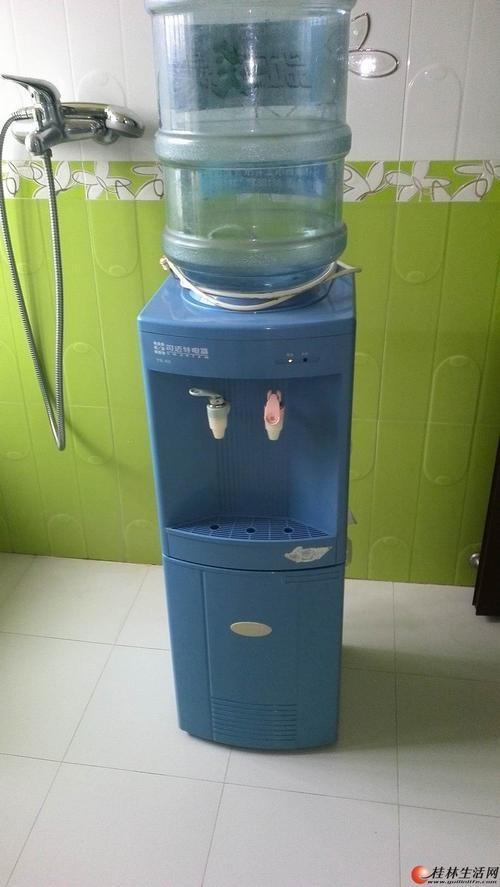Dispenser: (135, 1, 357, 753)
